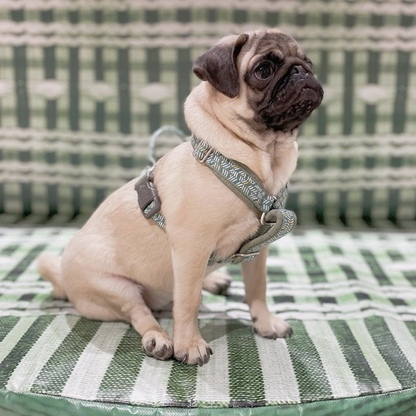Pug: (32, 25, 326, 370)
